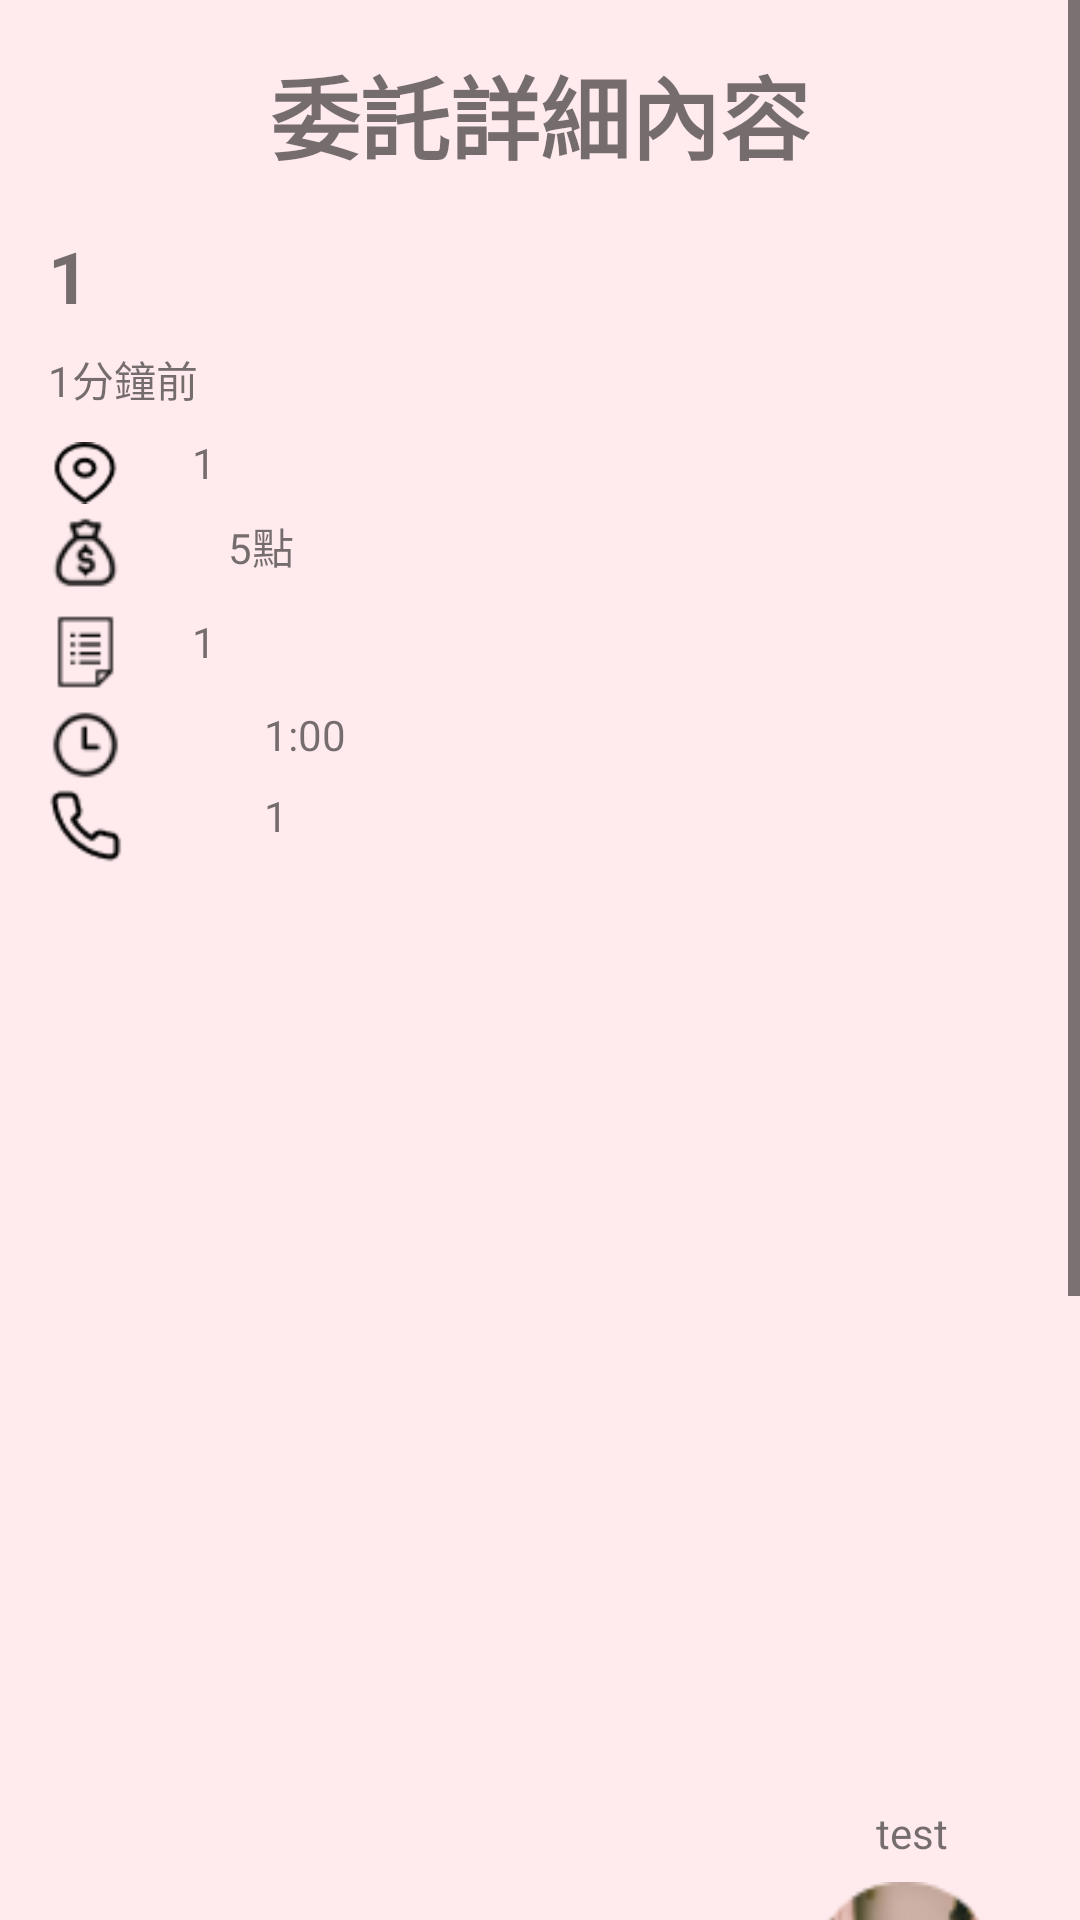

Icons on this 1080px×1920px Android screen, each with its box as box=[x1, y1, x2, y2]:
clock: box=[53, 712, 118, 778]
listview: box=[57, 616, 114, 688]
location: box=[54, 442, 117, 504]
moneybag: box=[54, 518, 117, 587]
phone: box=[50, 790, 121, 862]
